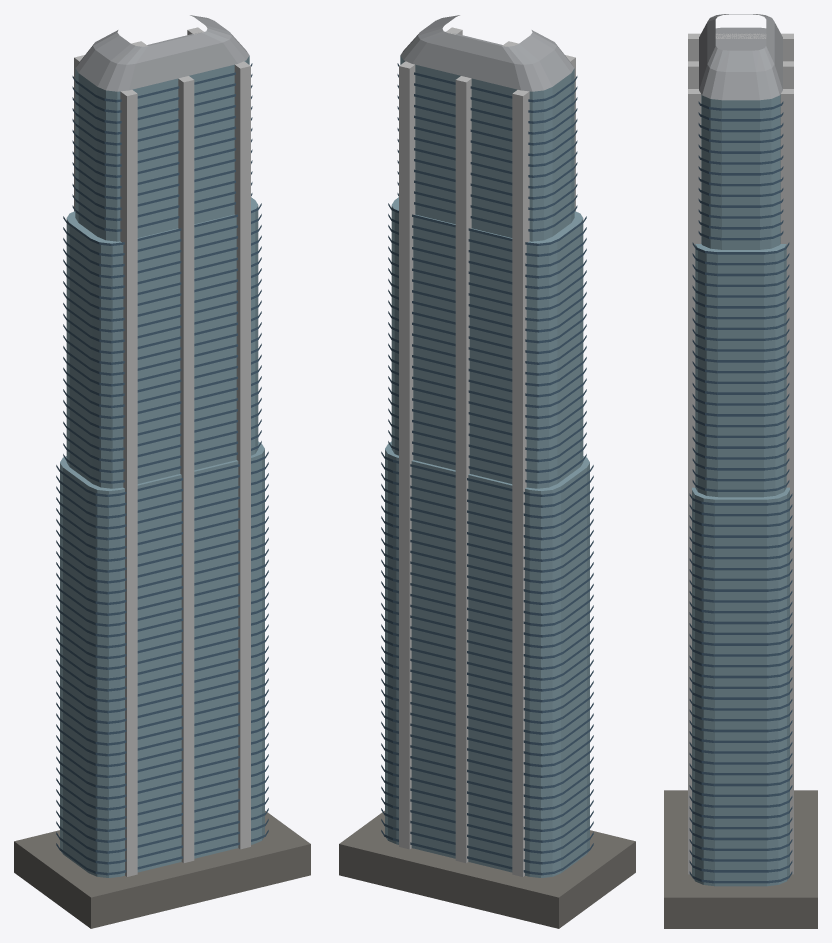
The model's file is landmark_pinnacle.glb.
3 views of the same model, side by side, from view 1: azimuth 30°, elevation 25°; view 2: azimuth 150°, elevation 25°; view 3: azimuth 270°, elevation 25° (orthographic).
Visible parts, largest first — view 1: landmark_pinnacle; view 2: landmark_pinnacle; view 3: landmark_pinnacle.
Part boxes in pixels (bbox=[...]): landmark_pinnacle: bbox=[14, 15, 310, 928]; landmark_pinnacle: bbox=[339, 15, 635, 928]; landmark_pinnacle: bbox=[664, 14, 817, 928].
Size of the model in its own units: 66 by 242 by 40.
